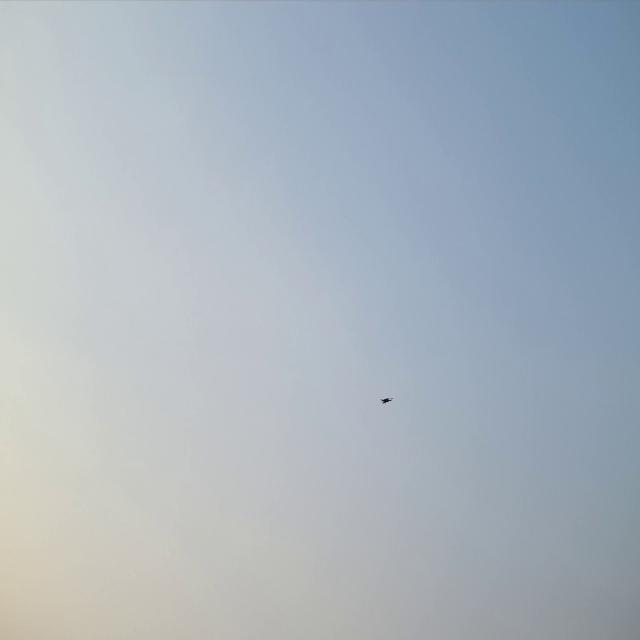UAV: (379, 394, 396, 406)
